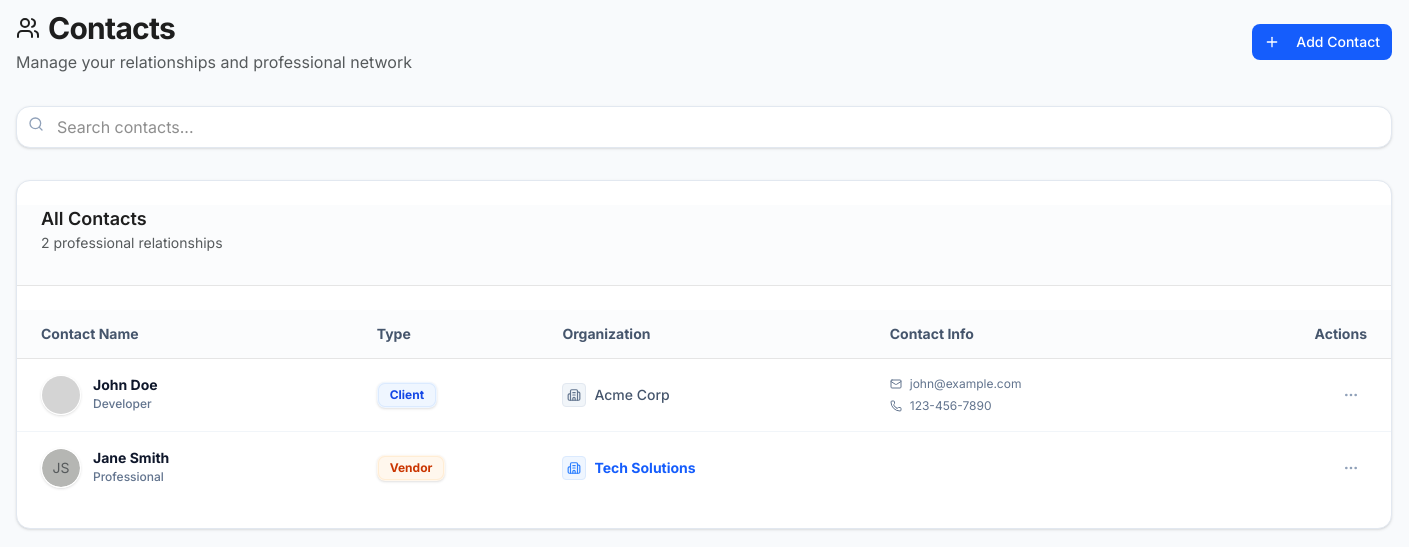
Test: ContactsClientPage › filters contacts by organization name
In the field with placeholder "Search contacts...": (704, 127) [16,106,1392,148], type "Tech Solutions"
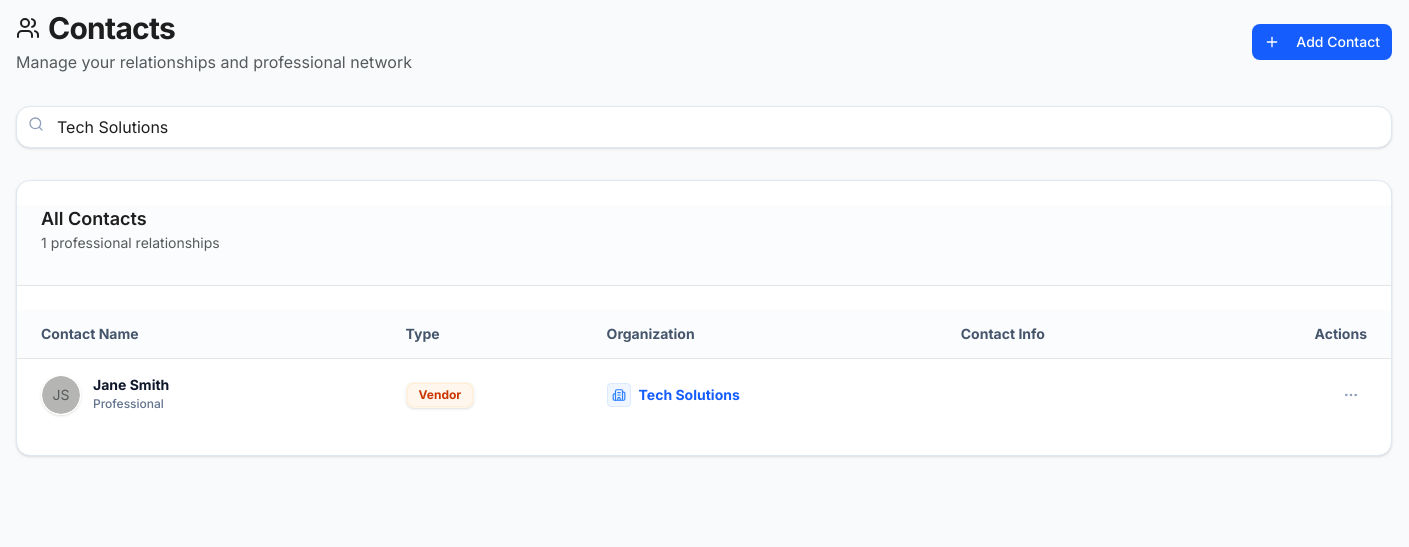
Expected: the text "Jane Smith" is shown, [93,378,169,392]
Expected: the link "John Doe" is gone
